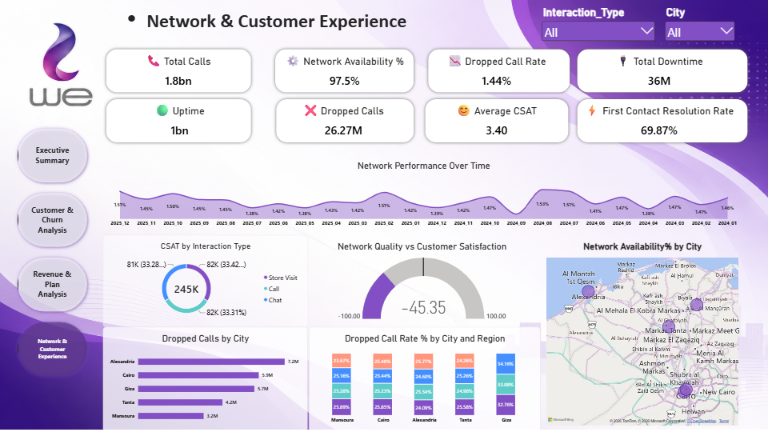

What the dashboard file says about the page in this screenshot:
{"tool":"powerbi","page":{"name":" Network & Customer Experience","canvas":[1920,1080],"ordinal":3},"visuals":[{"type":"shape","box":[258,116,378,124],"z":0},{"type":"shape","box":[682,240,360,124],"z":1000},{"type":"shape","box":[1062,116,370,124],"z":2000},{"type":"shape","box":[680,116,362,124],"z":3000},{"type":"shape","box":[1434,116,442,124],"z":4000},{"type":"shape","box":[258,240,378,124],"z":5000},{"type":"shape","box":[1056,240,374,124],"z":6000},{"type":"cardVisual","title":"📞 Total Calls","fields":{"Data":["Fact_Network.Total Calls"]},"box":[286,132,322,92],"z":7000},{"type":"cardVisual","title":"❌ Dropped Calls","fields":{"Data":["Fact_Network.Dropped Calls"]},"box":[698,256,322,92],"z":8000},{"type":"cardVisual","title":"📉 Dropped Call Rate","fields":{"Data":["Fact_Network.Dropped Call Rate %"]},"box":[1078,132,328,92],"z":9000},{"type":"cardVisual","title":"🔌 Total Downtime","fields":{"Data":["Sum(Fact_Network.Downtime_Minutes)"]},"box":[1456,132,386,92],"z":10000},{"type":"cardVisual","title":"🟢 Uptime","fields":{"Data":["Sum(Fact_Network.Uptime_Minutes)"]},"box":[286,256,328,92],"z":11000},{"type":"cardVisual","title":"😊 Average CSAT","fields":{"Data":["Fact_Experience.Average .CSAT"]},"box":[1078,256,328,92],"z":12000},{"type":"cardVisual","title":"⚙️ Network Availability %","fields":{"Data":["Fact_Network.Network Availability%"]},"box":[698,132,328,92],"z":13000},{"type":"shape","box":[1436,240,442,124],"z":14000},{"type":"cardVisual","title":"⚡ First Contact Resolution Rate","fields":{"Data":["Fact_Experience.First Contact Resolution %"]},"box":[1436,256,426,92],"z":15000},{"type":"stackedAreaChart","title":"Network Performance Over Time","fields":{"Category":["Dim_Date.year_monyh"],"Y":["Fact_Network.Dropped Call Rate %"]},"box":[258,384,1604,202],"z":16000},{"type":"map","fields":{"Category":["Dim_Geography.City"],"Size":["Fact_Network.Network Availability%"]},"box":[1349.5,587.7,512.9,492.3],"z":17000},{"type":"barChart","fields":{"Category":["Dim_Geography.City"],"Y":["Fact_Network.Dropped Calls"]},"box":[258.3,817.9,511,262],"z":18000},{"type":"donutChart","title":"CSAT by Interaction Type","fields":{"Category":["Fact_Experience.Interaction_Type"],"Y":["Sum(Fact_Experience.CSAT_Score)"]},"box":[257.5,587.5,512.5,230],"z":19000},{"type":"gauge","title":"Network Quality vs Customer Satisfaction ","fields":{"Y":["table.NPS Score"]},"box":[770,587.5,570,230],"z":20000},{"type":"textbox","box":[257.5,15,785,100],"z":21000},{"type":"hundredPercentStackedColumnChart","fields":{"Category":["Dim_Geography.City"],"Y":["Fact_Network.Dropped Call Rate %"],"Series":["Dim_Geography.Region"]},"box":[772,818,578,262],"z":22000},{"type":"slicer","fields":{"Values":["Fact_Experience.Interaction_Type"]},"box":[1350,15,292.5,95],"z":23000},{"type":"slicer","fields":{"Values":["Dim_Geography.City"]},"box":[1658,16,184,94],"z":24000},{"type":"pageNavigator","box":[36,312,192.5,637.5],"z":25000}]}

Visuals, with their boxes in screenshot pixels (x1, y1, x2, y2), scaled from the page's 1920x1080 canvas onto the 768x430 screenshot:
shape: 103:46:254:96
shape: 273:96:417:145
shape: 425:46:573:96
shape: 272:46:417:96
shape: 574:46:750:96
shape: 103:96:254:145
shape: 422:96:572:145
"📞 Total Calls" cardVisual: 114:53:243:89
"❌ Dropped Calls" cardVisual: 279:102:408:139
"📉 Dropped Call Rate" cardVisual: 431:53:562:89
"🔌 Total Downtime" cardVisual: 582:53:737:89
"🟢 Uptime" cardVisual: 114:102:246:139
"😊 Average CSAT" cardVisual: 431:102:562:139
"⚙️ Network Availability %" cardVisual: 279:53:410:89
shape: 574:96:751:145
"⚡ First Contact Resolution Rate" cardVisual: 574:102:745:139
"Network Performance Over Time" stackedAreaChart: 103:153:745:233
map - Dim_Geography.City x Fact_Network.Network Availability%: 540:234:745:429
barChart - Dim_Geography.City x Fact_Network.Dropped Calls: 103:326:308:429
"CSAT by Interaction Type" donutChart: 103:234:308:325
"Network Quality vs Customer Satisfaction " gauge: 308:234:536:325
textbox: 103:6:417:46
hundredPercentStackedColumnChart - Dim_Geography.City x Fact_Network.Dropped Call Rate %: 309:326:540:429
slicer - Fact_Experience.Interaction_Type: 540:6:657:44
slicer - Dim_Geography.City: 663:6:737:44
pageNavigator: 14:124:91:378
